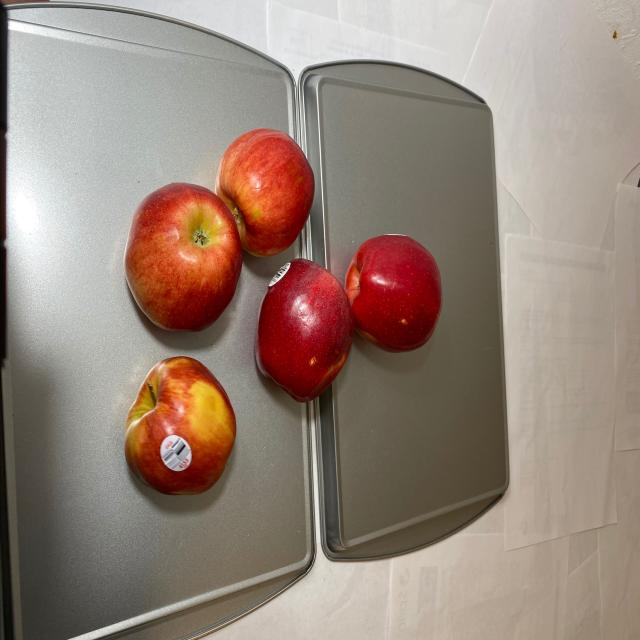apple: (127, 130, 444, 498)
